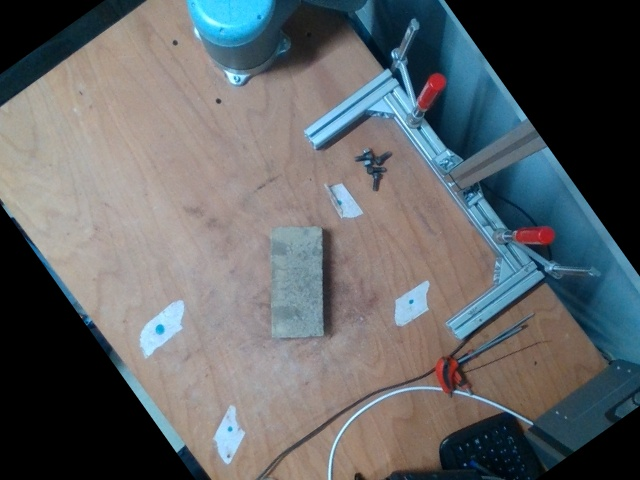brick: (272, 229, 320, 335)
